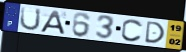3: (95, 14, 116, 41)
6: (71, 11, 92, 39)
A: (39, 10, 66, 36)
C: (120, 18, 144, 43)
D: (144, 20, 166, 44)
U: (19, 6, 43, 32)
